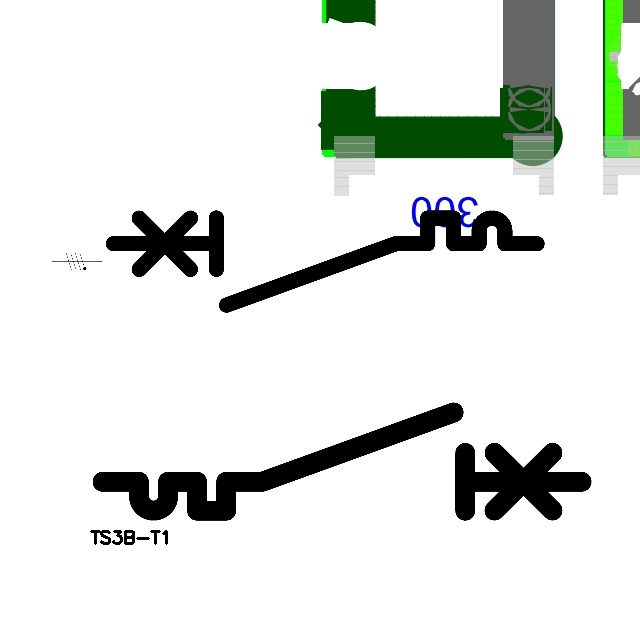interruptor_termomagnetico: (90, 400, 594, 523), (102, 207, 547, 316)
